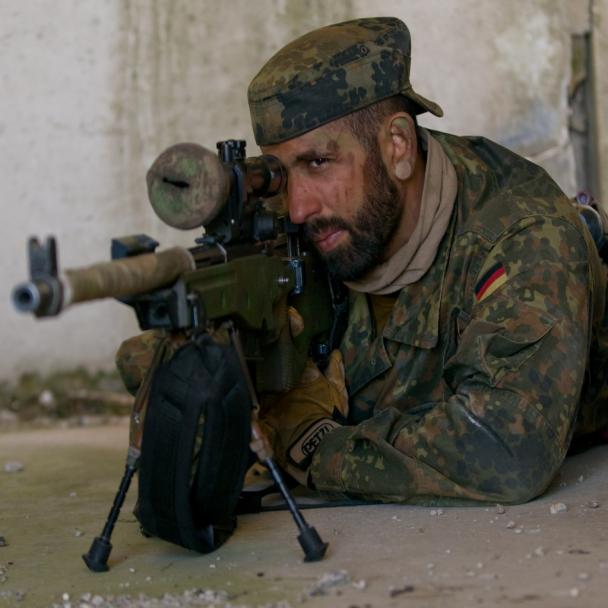Gun: (10, 136, 330, 574)
